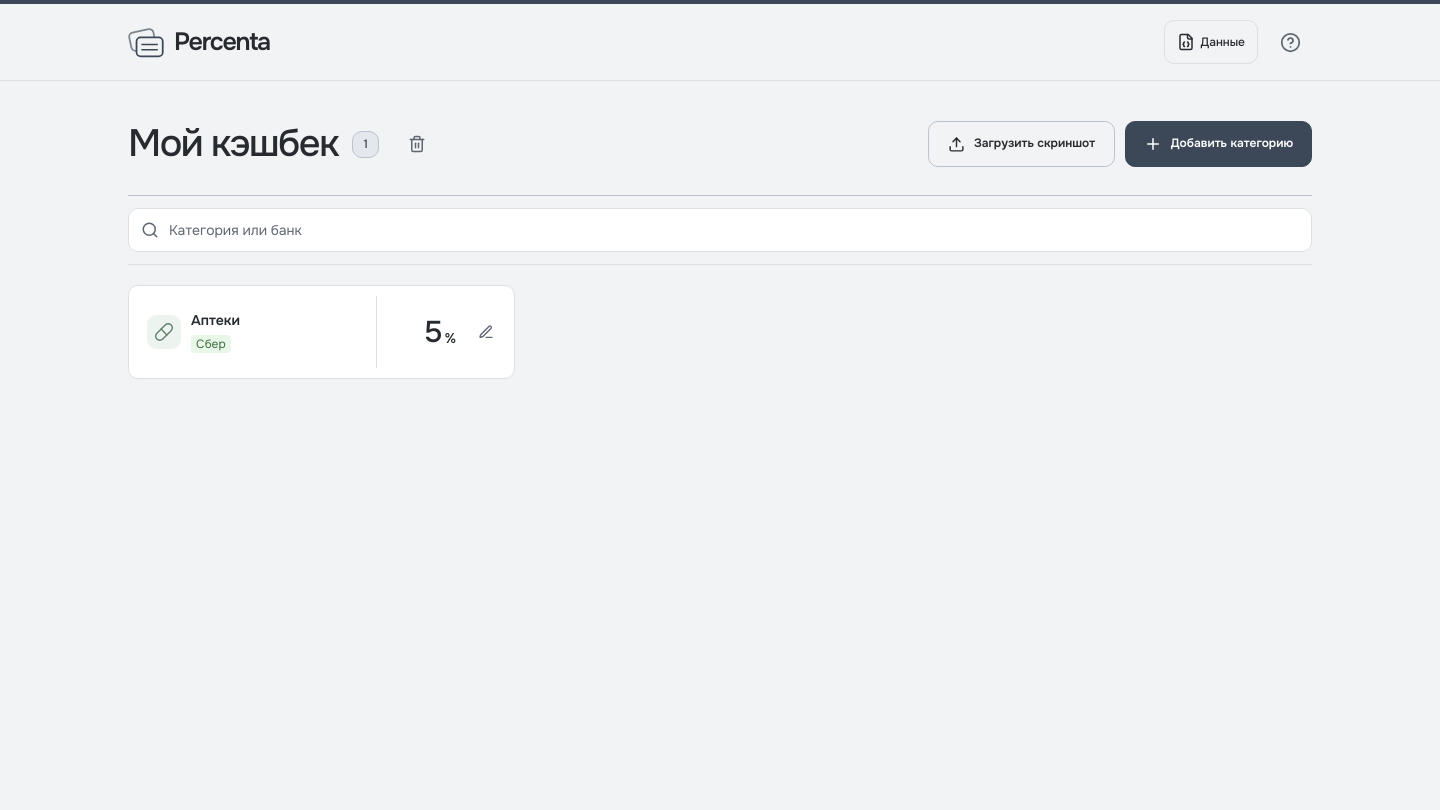
it: основные пользовательские сценарии › очистка требует подтверждения
Click the button named "Очистить все записи" at point(417, 144), box [395,122,439,166]
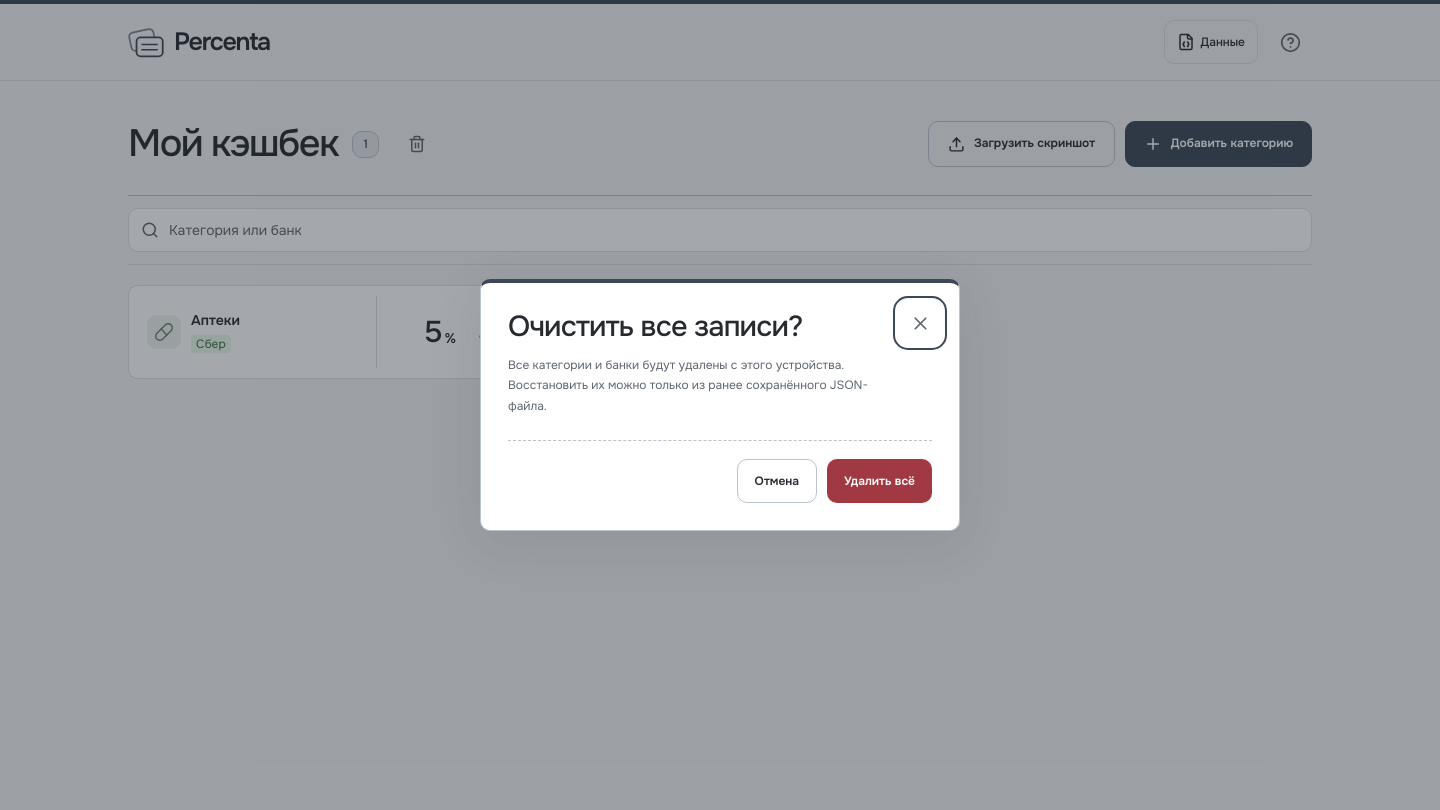
Click the button "Удалить всё" at point(880, 481), box [827,459,932,503]
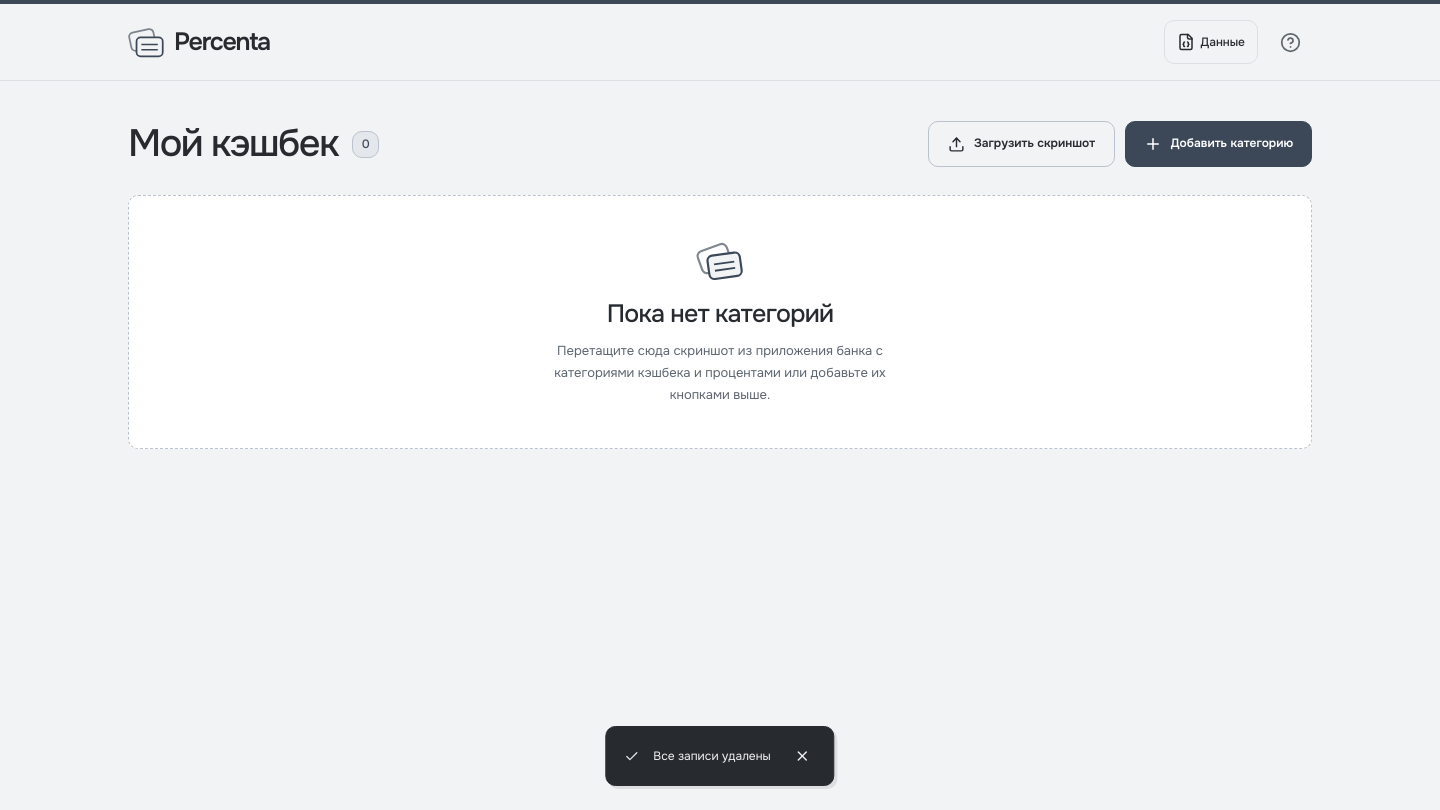
Now the heading "Пока нет категорий" is shown, box [607,298,833,330]
